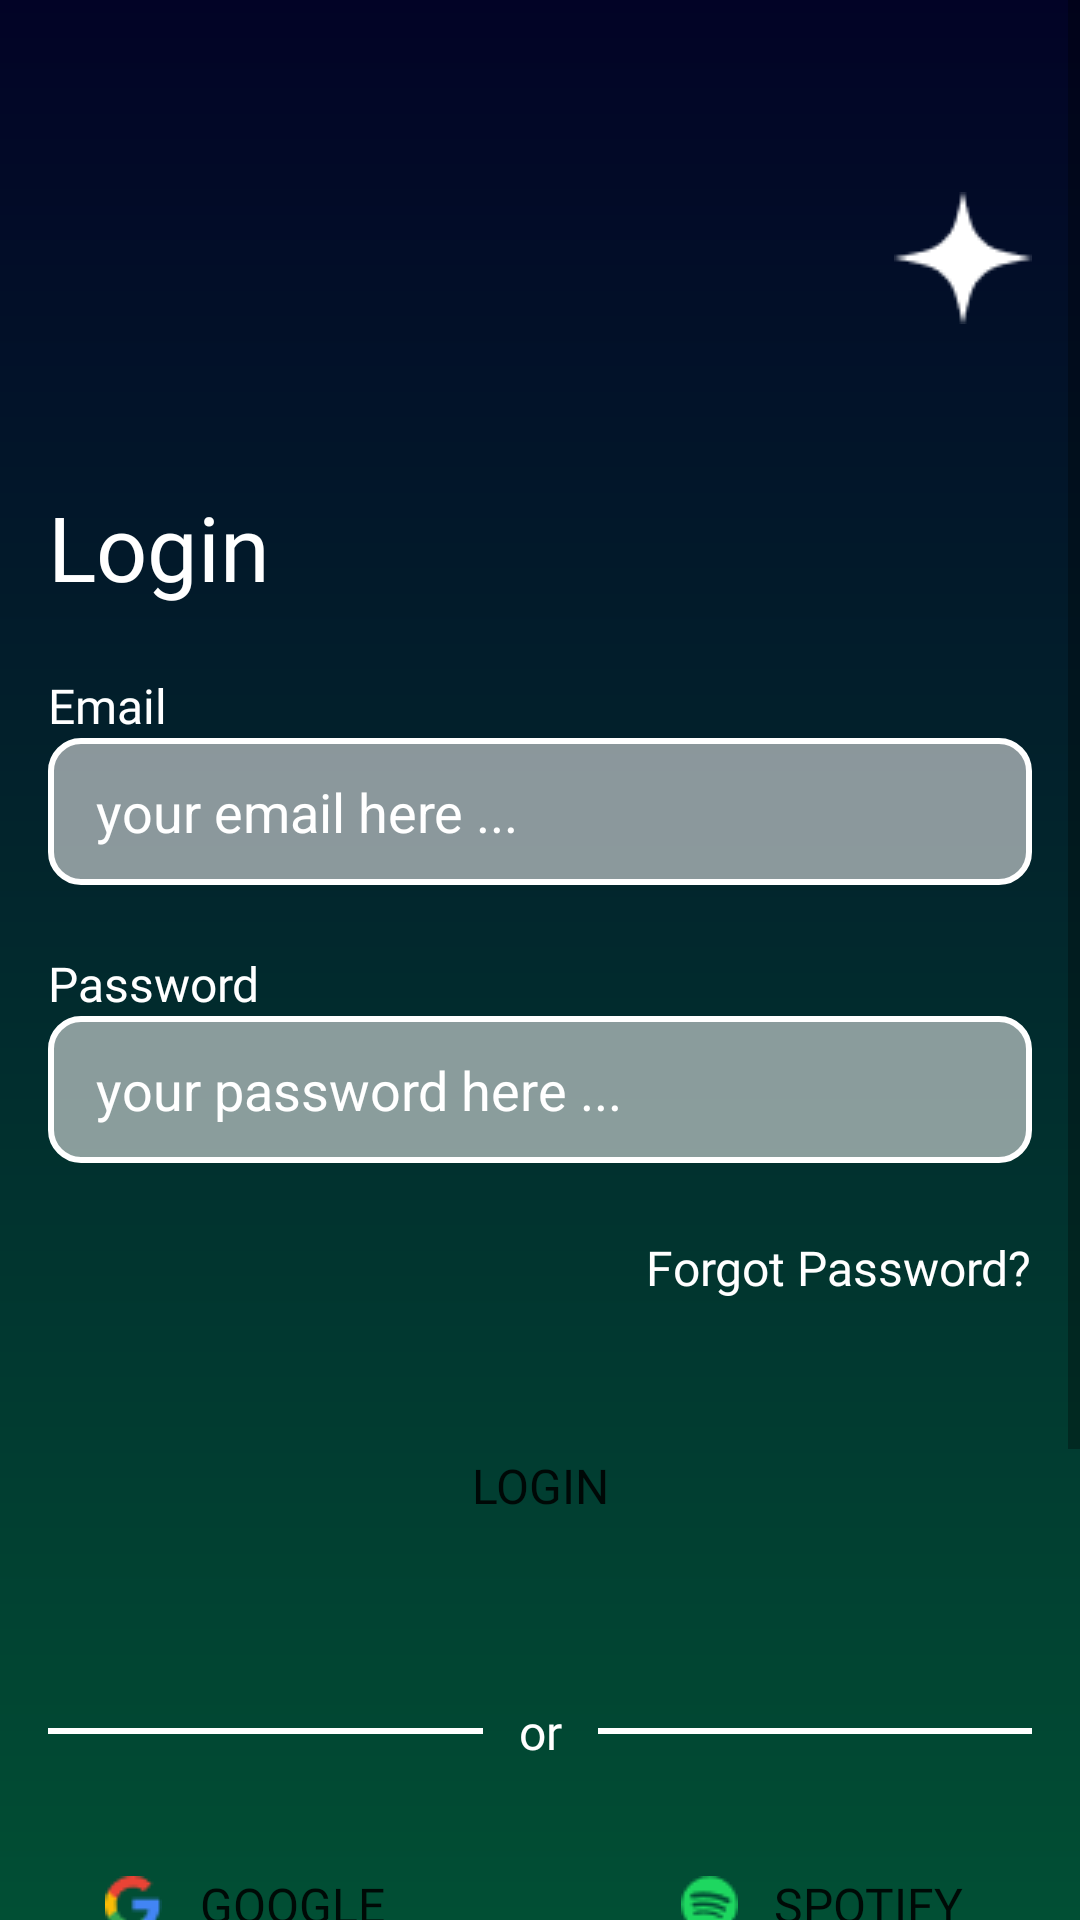

Screen size 1080 × 1920. Icon name, then its center in pixels as (x=x, y=y):
star: (x=963, y=258)
